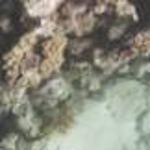alive: (1, 4, 147, 145)
